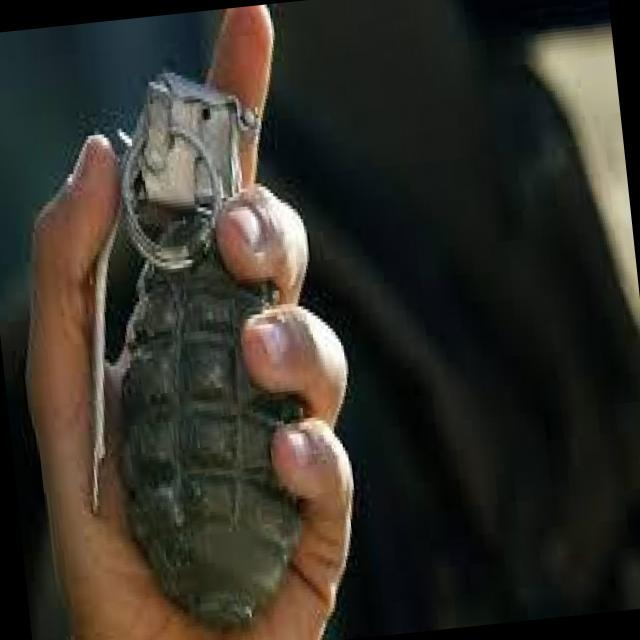grenade: (48, 56, 327, 640)
